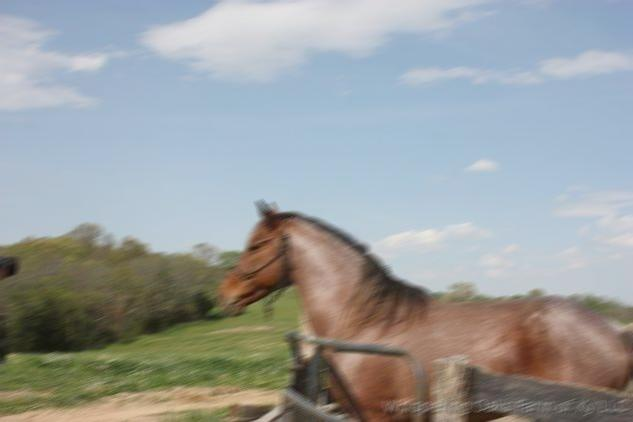horse: (214, 198, 633, 421)
